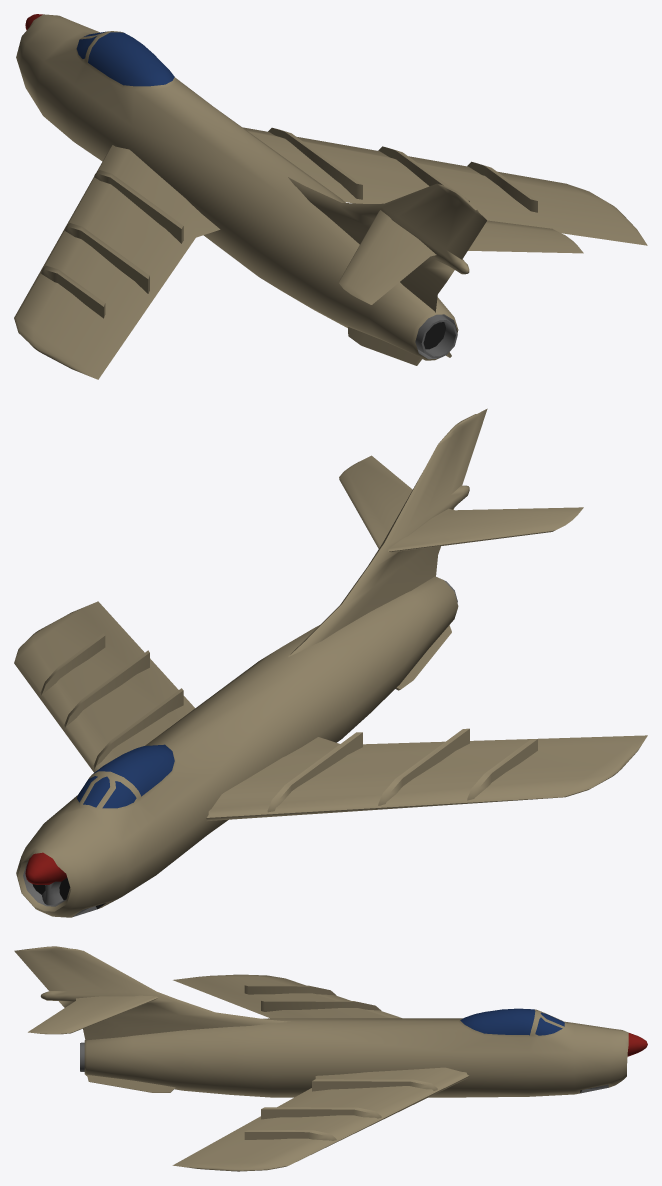
Rendered from YAK_50.glb.
3 views of the same model, one above another, from view 1: azimuth 30°, elevation 25°; view 2: azimuth 150°, elevation 25°; view 3: azimuth 270°, elevation 25° (orthographic). The views are drawn at different scales.
Parts seen in each view (by area): view 1: yak_50; view 2: yak_50; view 3: yak_50.
Boxes of the visible parts, x1=… form: yak_50: x1=14, y1=14, x2=647, y2=379; yak_50: x1=14, y1=408, x2=647, y2=917; yak_50: x1=14, y1=946, x2=647, y2=1171.
Size of the model in its own units: 8.03 by 2.81 by 11.
